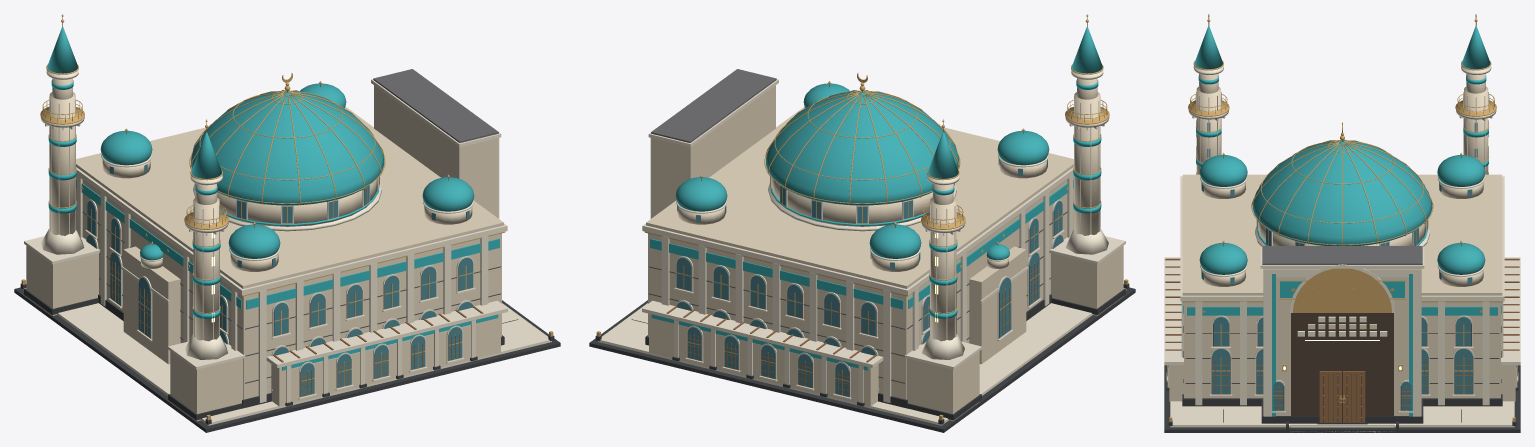
The model's file is mosque.glb.
The picture shows the model from 3 angles, left to right: view 1: azimuth 30°, elevation 25°; view 2: azimuth 150°, elevation 25°; view 3: azimuth 270°, elevation 25°; orthographic projection. The views are drawn at different scales.
Visible parts, largest first — view 1: mosque_hall_roof, mosque_main_dome, mosque_hall, mosque_terrace, mosque_portal, mosque_side_wing, mosque_granite_plinth, mosque_mihrab_projection, mosque_portal_roof, mosque_minaret_base, mosque_minaret_base.001, mosque_side_wing_roof (+35 smaller); view 2: mosque_hall_roof, mosque_main_dome, mosque_hall, mosque_terrace, mosque_portal, mosque_side_wing.001, mosque_granite_plinth, mosque_mihrab_projection, mosque_portal_roof, mosque_minaret_base, mosque_minaret_base.001, mosque_side_wing_roof.001 (+35 smaller); view 3: mosque_main_dome, mosque_hall_roof, mosque_iwan_reveal, mosque_hall, mosque_terrace, mosque_portal, mosque_arch_caps_brass, mosque_portal_roof, mosque_granite_plinth, mosque_dome_ribs, mosque_hall_cornice, mosque_side_wing_roof (+38 smaller).
Boxes of the visible parts, x1,y1,x2,y2 form: mosque_hall_roof: (76, 106, 503, 288); mosque_main_dome: (191, 90, 383, 205); mosque_hall: (76, 175, 501, 399); mosque_terrace: (23, 288, 551, 425); mosque_portal: (374, 85, 498, 217); mosque_side_wing: (271, 313, 500, 406); mosque_granite_plinth: (14, 287, 560, 432); mosque_mihrab_projection: (123, 246, 180, 364); mosque_portal_roof: (373, 69, 498, 142); mosque_minaret_base: (170, 351, 242, 421); mosque_minaret_base.001: (26, 246, 98, 315); mosque_side_wing_roof: (266, 300, 507, 368); mosque_hall_roof: (646, 106, 1073, 288); mosque_main_dome: (766, 90, 958, 205); mosque_hall: (648, 175, 1073, 399); mosque_terrace: (598, 288, 1126, 425); mosque_portal: (651, 85, 775, 217); mosque_side_wing.001: (649, 313, 878, 406); mosque_granite_plinth: (589, 287, 1135, 432); mosque_mihrab_projection: (969, 246, 1026, 364); mosque_portal_roof: (651, 69, 776, 142); mosque_minaret_base: (1051, 246, 1123, 315); mosque_minaret_base.001: (907, 351, 979, 421); mosque_side_wing_roof.001: (642, 300, 883, 368); mosque_main_dome: (1253, 140, 1431, 245); mosque_hall_roof: (1182, 174, 1502, 295); mosque_iwan_reveal: (1291, 313, 1393, 416); mosque_hall: (1184, 302, 1500, 398); mosque_terrace: (1170, 401, 1514, 427); mosque_portal: (1263, 268, 1421, 415); mosque_arch_caps_brass: (1293, 268, 1391, 312); mosque_portal_roof: (1262, 246, 1422, 264); mosque_granite_plinth: (1164, 365, 1520, 432); mosque_dome_ribs: (1251, 140, 1433, 245); mosque_hall_cornice: (1180, 176, 1504, 301); mosque_side_wing_roof: (1164, 257, 1183, 365).
Size of the model in its own units: 38.4 by 30 by 36.
